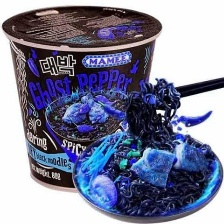paper_cup: (0, 0, 168, 197)
